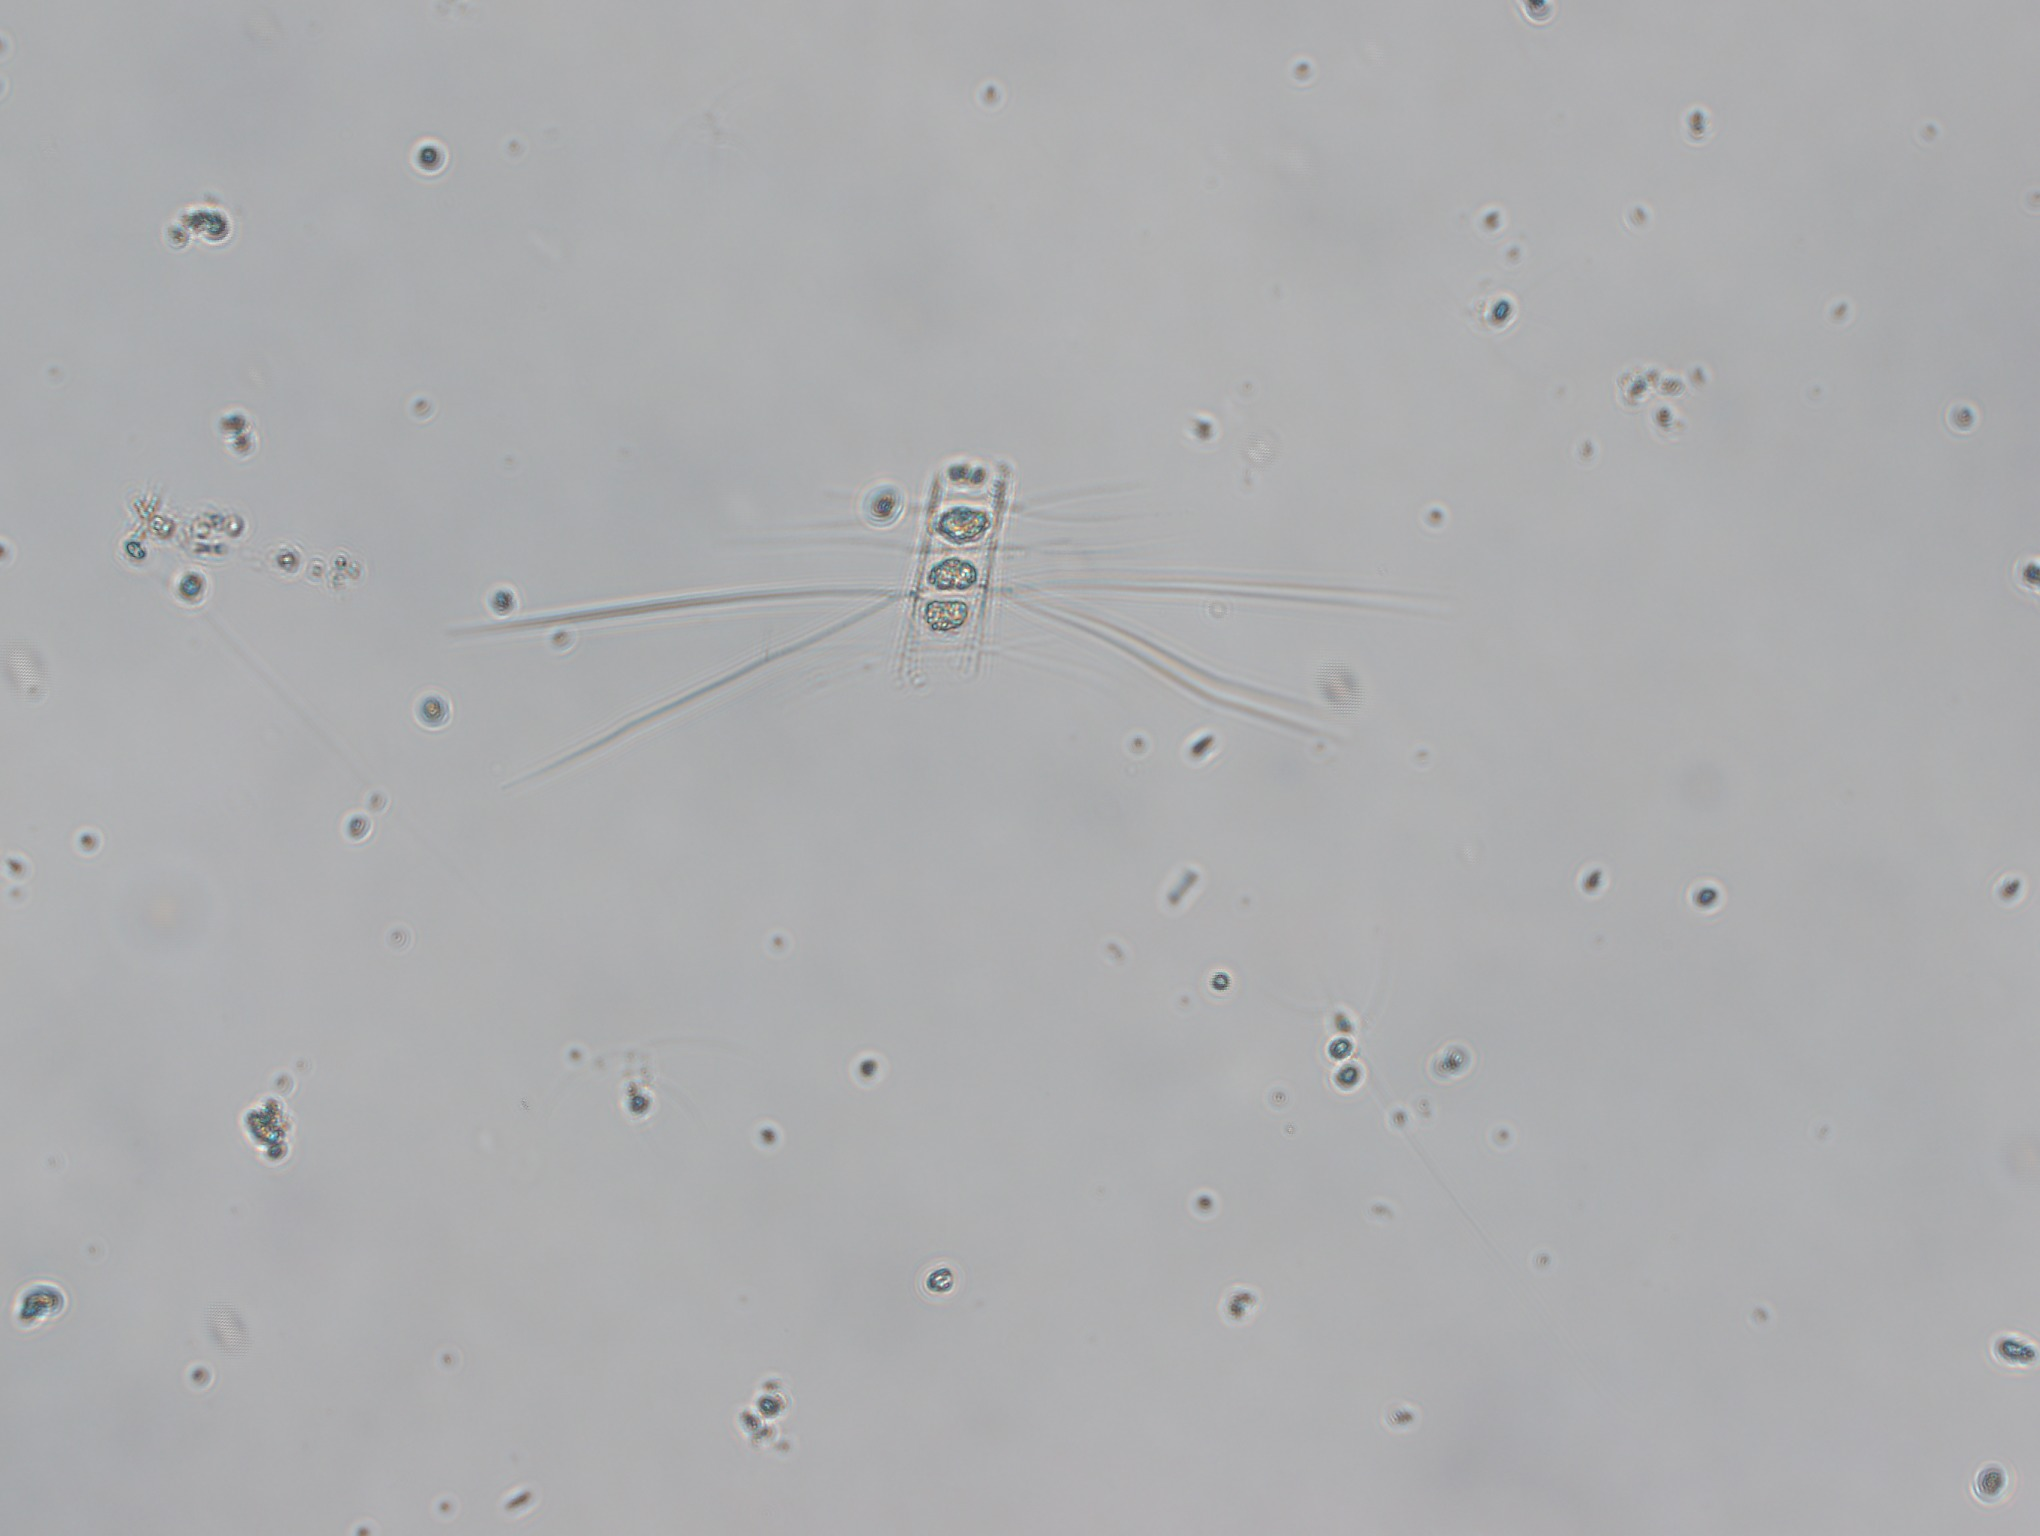chaetoceros: (448, 452, 1450, 787)
